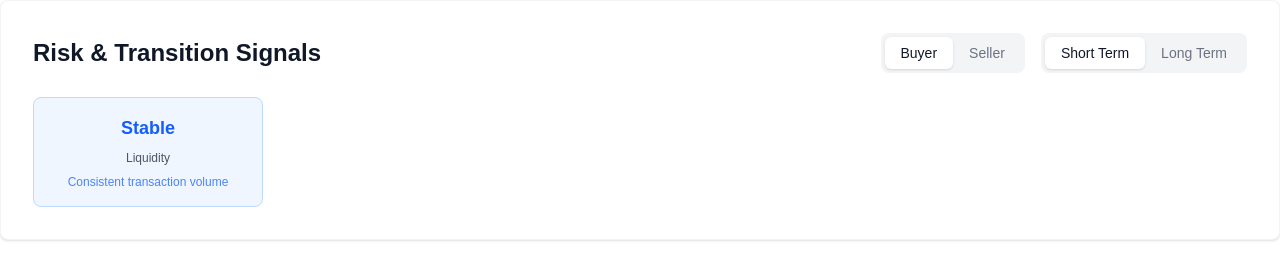
Test: SignalPanel › filters by timeframe (Short vs Long)
The width and height of the screenshot is (1280, 258).
Check: the text "Residual Risk" is not shown
Check: the text "Liquidity" is shown, box [126, 151, 170, 165]
Note: Switch to Long Term
Click the button "Long Term". click: (1194, 53)
box: [1145, 37, 1243, 69]
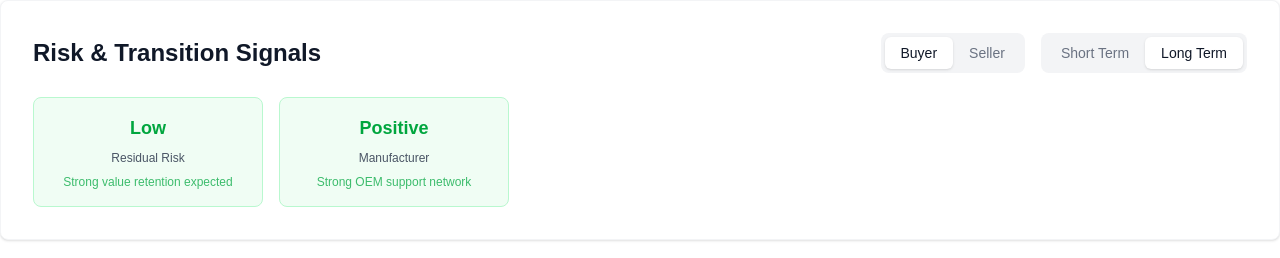
Check: the text "Residual Risk" is shown, box [111, 151, 185, 165]
Check: the text "Liquidity" is gone
